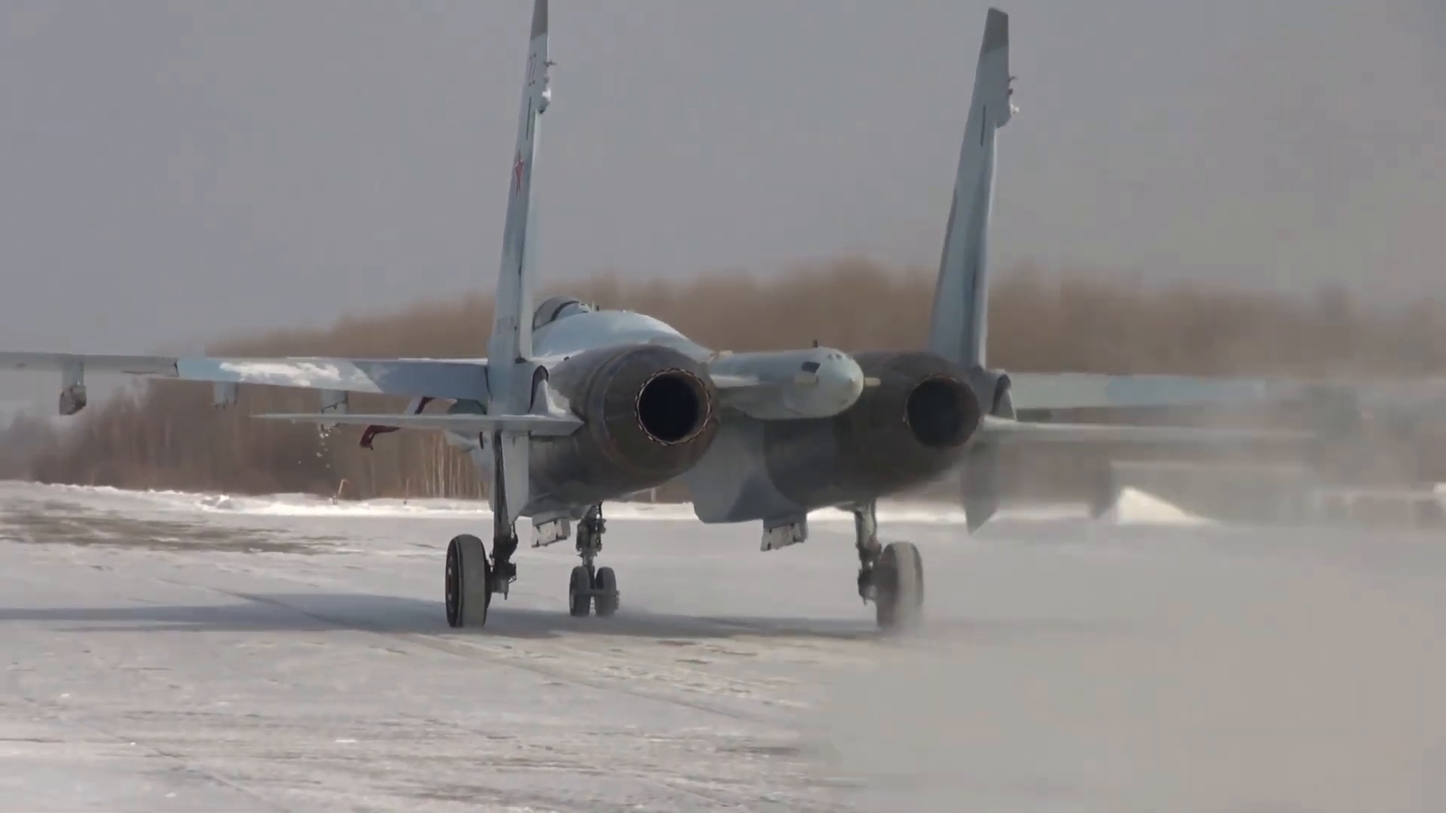Su35: (28, 65, 1446, 691)
